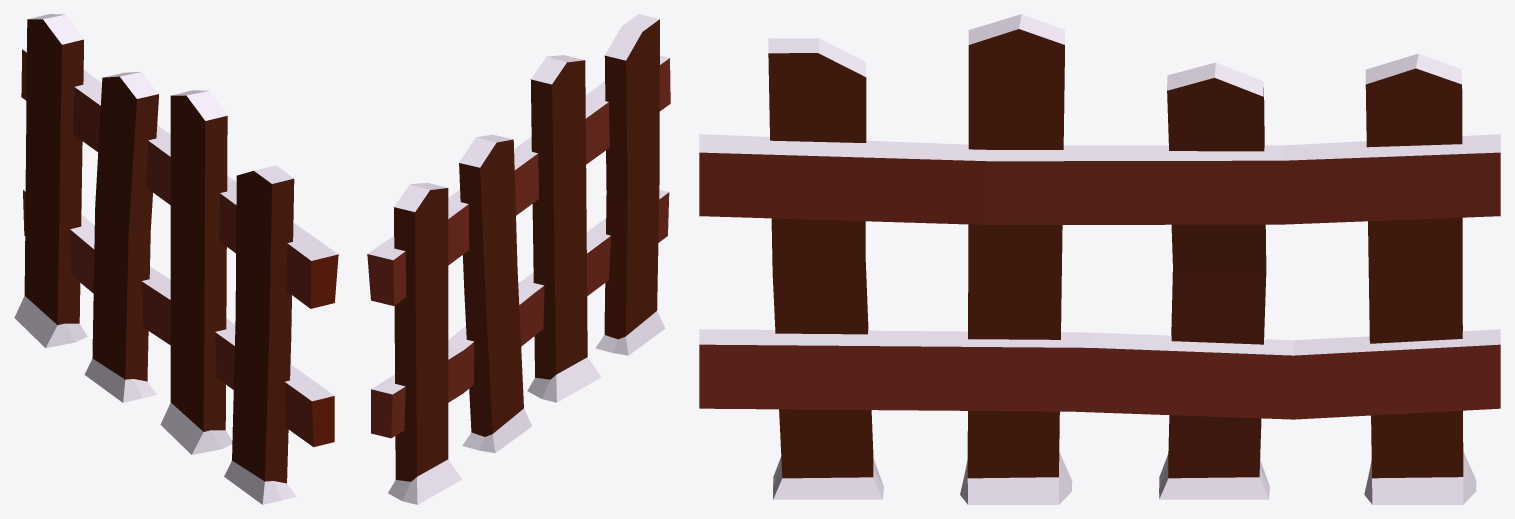
Rendered from winter_castle_item3.glb.
3 views of the same model, side by side, from view 1: azimuth 30°, elevation 25°; view 2: azimuth 150°, elevation 25°; view 3: azimuth 270°, elevation 25° (orthographic). The views are drawn at different scales.
Parts seen in each view (by area): view 1: Item3_Medieval_0; view 2: Item3_Medieval_0; view 3: Item3_Medieval_0.
Boxes of the visible parts, x1,y1,x2,y2 form: Item3_Medieval_0: (14, 14, 338, 504); Item3_Medieval_0: (367, 14, 670, 504); Item3_Medieval_0: (699, 14, 1500, 504).
Size of the model in its own units: 0.1089 by 0.6564 by 1.01.
Materials: 1 (1 with a texture image).
